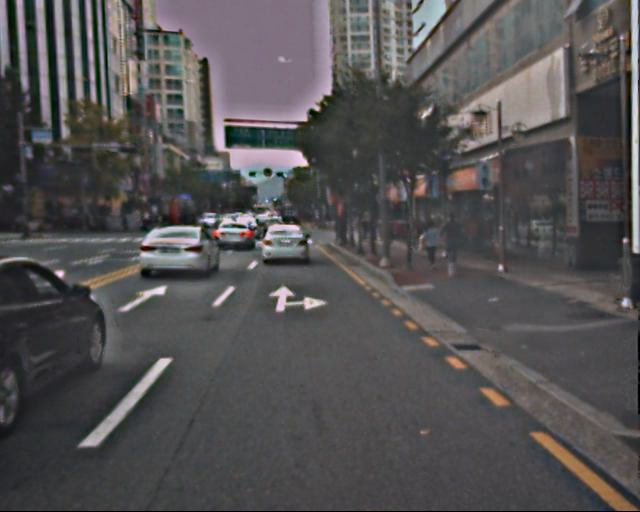person: (441, 211, 464, 267), (421, 219, 442, 270)
